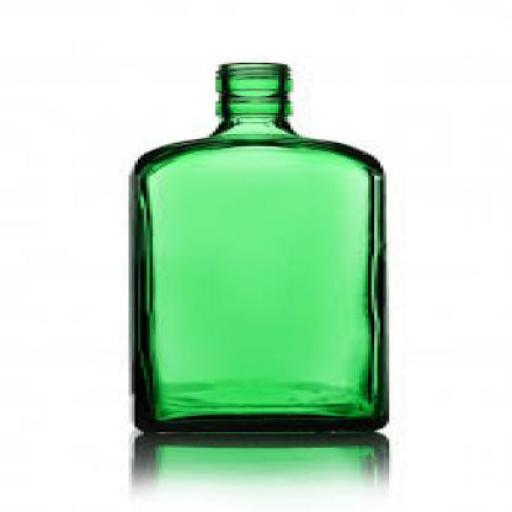glass: (126, 63, 386, 432)
